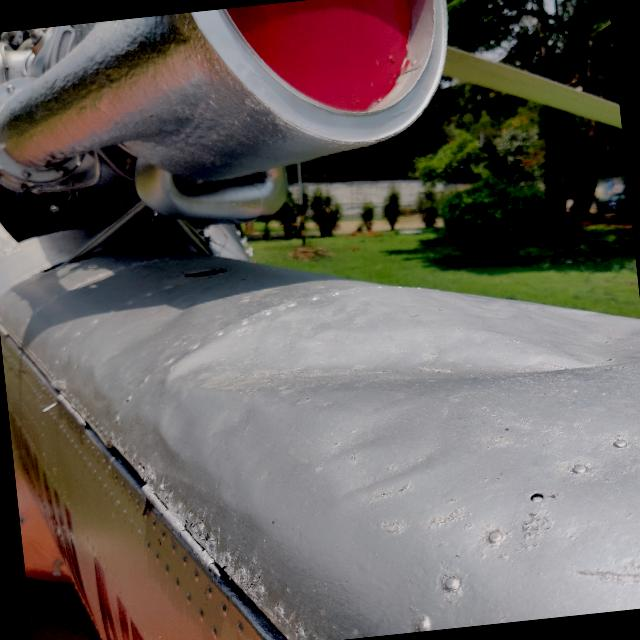dent: (138, 250, 634, 438), (290, 390, 462, 526)
